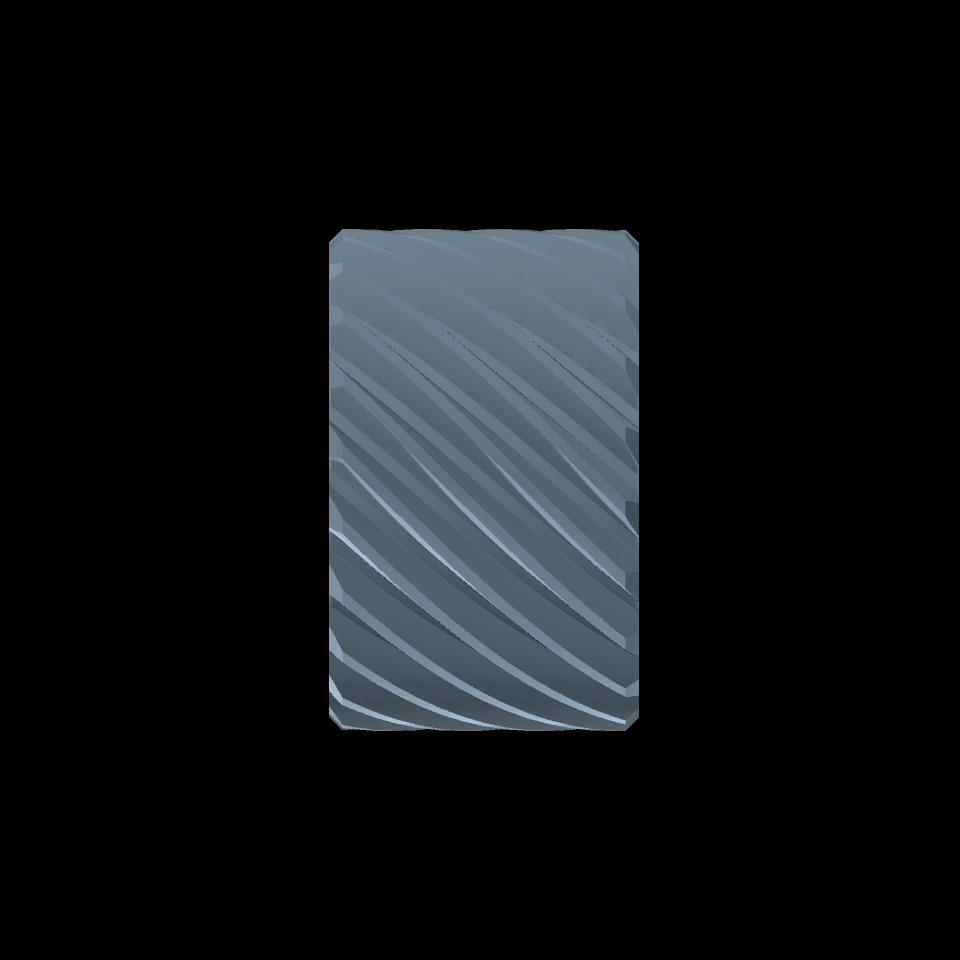Helical: (344, 228, 625, 729)
